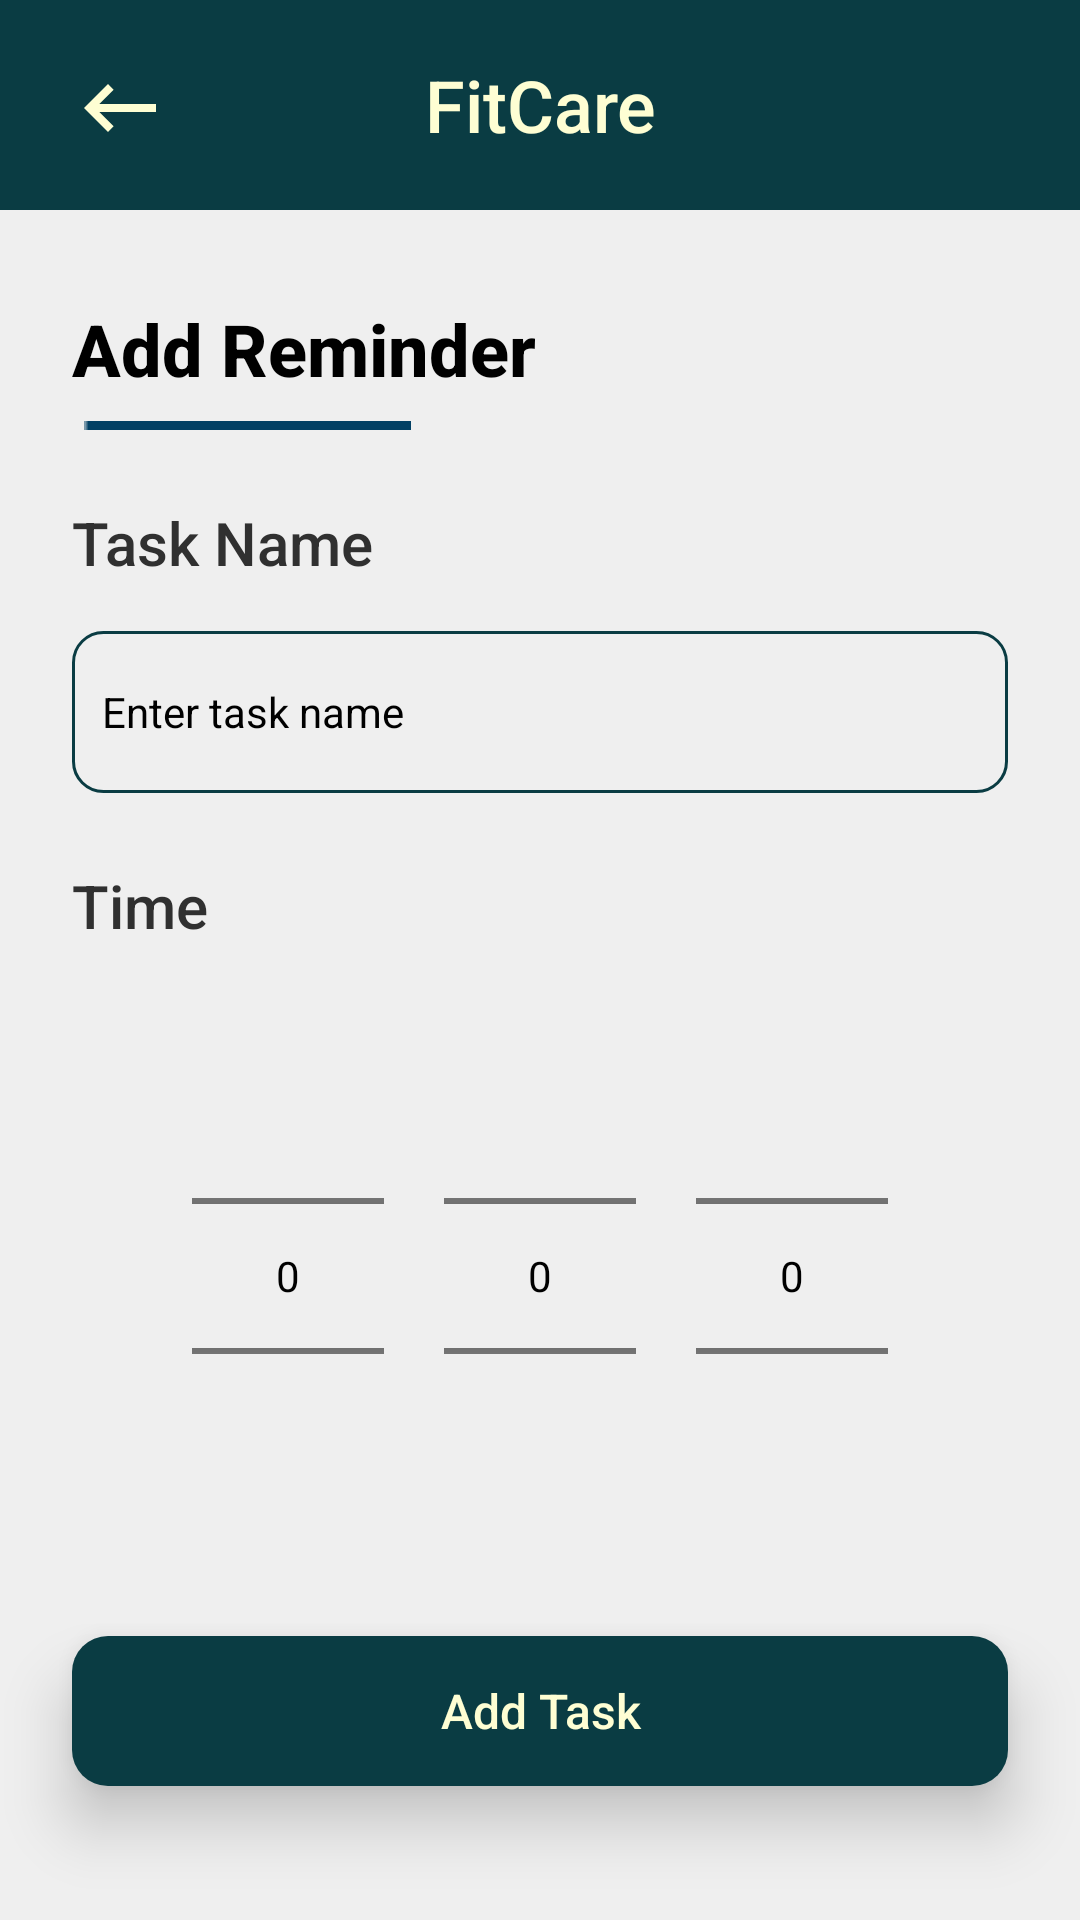

Icons on this 1080w x 1920h Android screen, each with its box as (x1, y1, x2, y2):
back: (84, 84, 156, 132)
